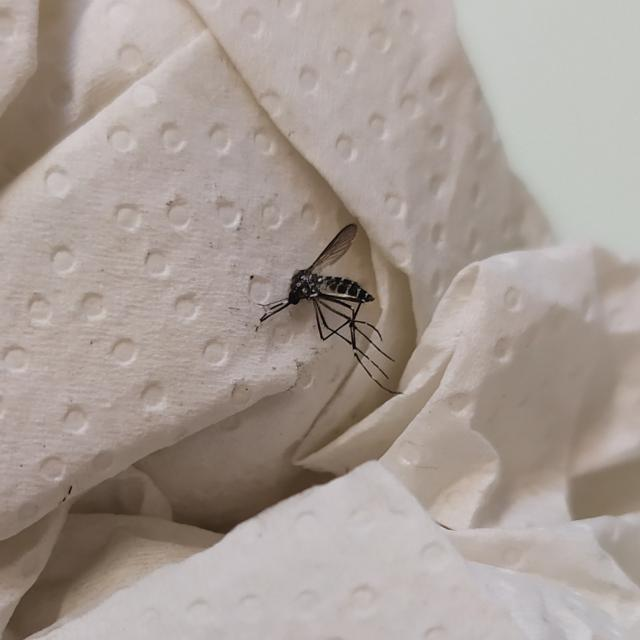albopictus: (243, 224, 403, 393)
